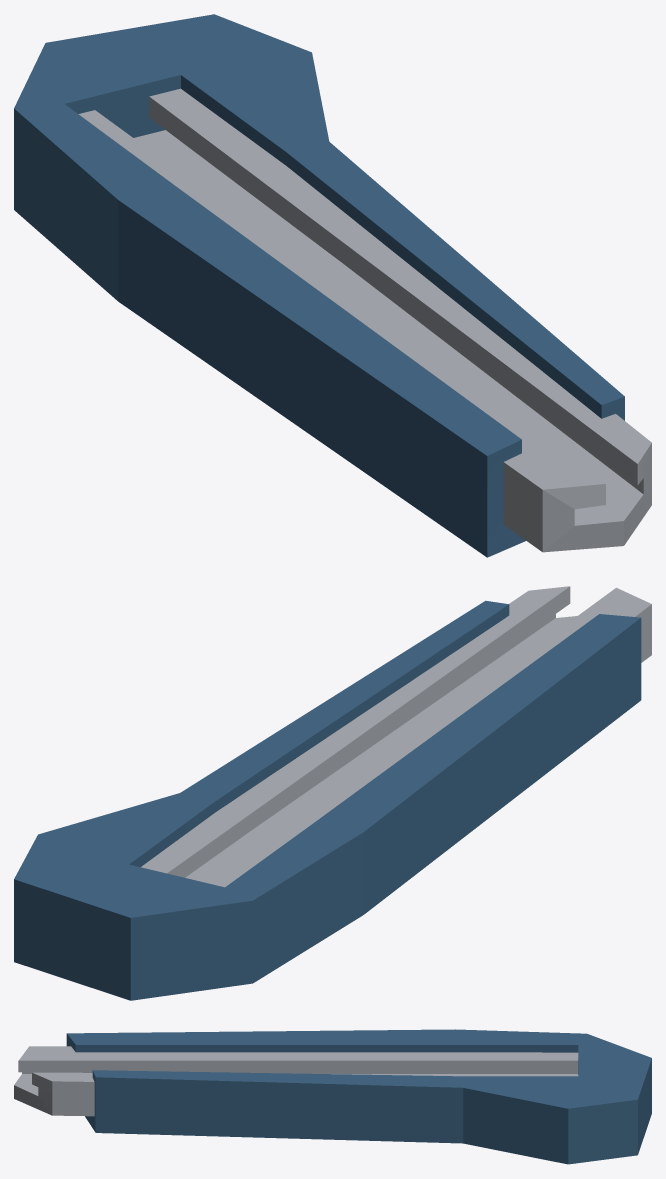
File: SM_Tool_BoxCutter_01.obj
3 views of the same model, one above another, from view 1: azimuth 30°, elevation 25°; view 2: azimuth 150°, elevation 25°; view 3: azimuth 270°, elevation 25° (orthographic). The views are drawn at different scales.
Visible parts, largest first — view 1: SM_Tool_BoxCutter_01_0; view 2: SM_Tool_BoxCutter_01_0; view 3: SM_Tool_BoxCutter_01_0.
Boxes of the visible parts, x1=… form: SM_Tool_BoxCutter_01_0: x1=14, y1=14, x2=651, y2=557; SM_Tool_BoxCutter_01_0: x1=14, y1=586, x2=651, y2=1000; SM_Tool_BoxCutter_01_0: x1=14, y1=1029, x2=651, y2=1164.
Bounding box in the file's own units: 0.0837 × 0.0274 × 0.2847.
Materials: 1 (1 with a texture image).
